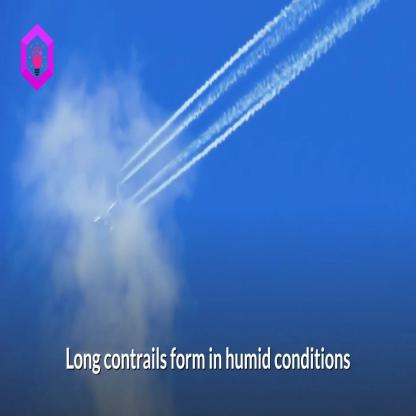plane: (91, 171, 129, 238)
